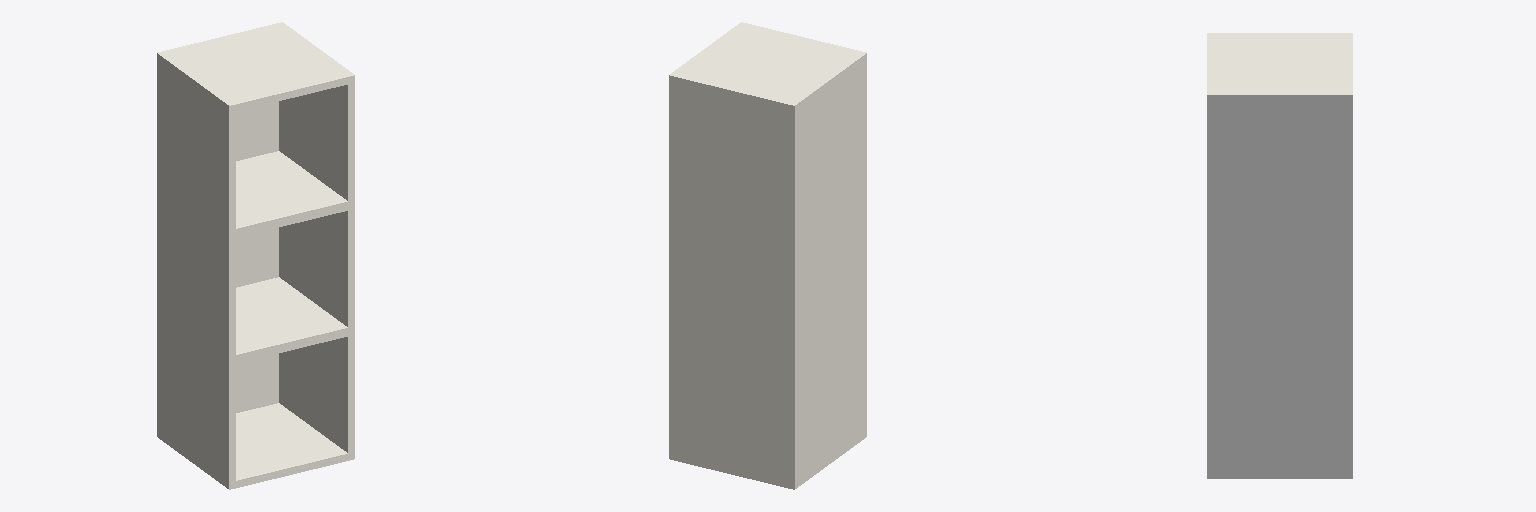
File: cubo3.obj
3 views of the same model, side by side, from view 1: azimuth 30°, elevation 25°; view 2: azimuth 150°, elevation 25°; view 3: azimuth 270°, elevation 25° (orthographic).
Visible parts, largest first — view 1: Cube, Cube.001_Cube.002, Cube.002_Cube.001; view 2: Cube, Cube.001_Cube.002, Cube.002_Cube.001; view 3: Cube, Cube.001_Cube.002, Cube.002_Cube.001.
Part boxes in pixels (bbox=[...]): Cube: bbox=[157, 22, 354, 237]; Cube.001_Cube.002: bbox=[157, 305, 354, 489]; Cube.002_Cube.001: bbox=[157, 185, 354, 361]; Cube: bbox=[669, 22, 866, 237]; Cube.001_Cube.002: bbox=[669, 306, 866, 489]; Cube.002_Cube.001: bbox=[669, 180, 866, 357]; Cube: bbox=[1207, 33, 1352, 226]; Cube.001_Cube.002: bbox=[1207, 347, 1352, 478]; Cube.002_Cube.001: bbox=[1207, 221, 1352, 346].
Size of the model in its own units: 2 by 5.82 by 2.